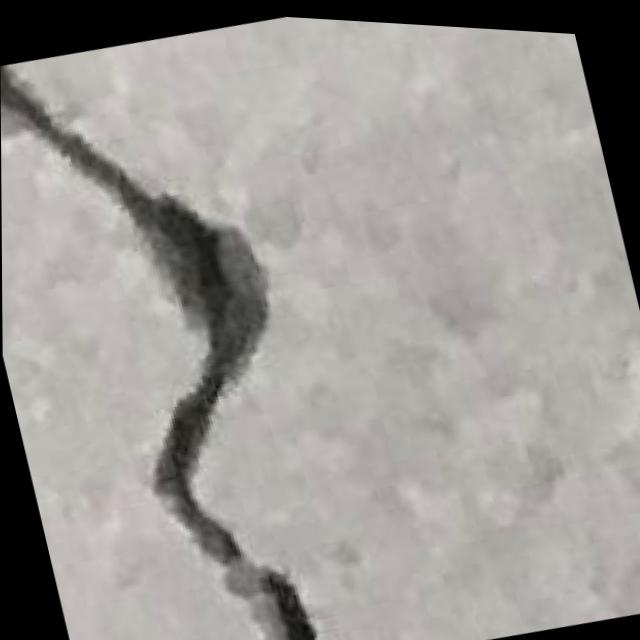Crack: (0, 11, 397, 640)
